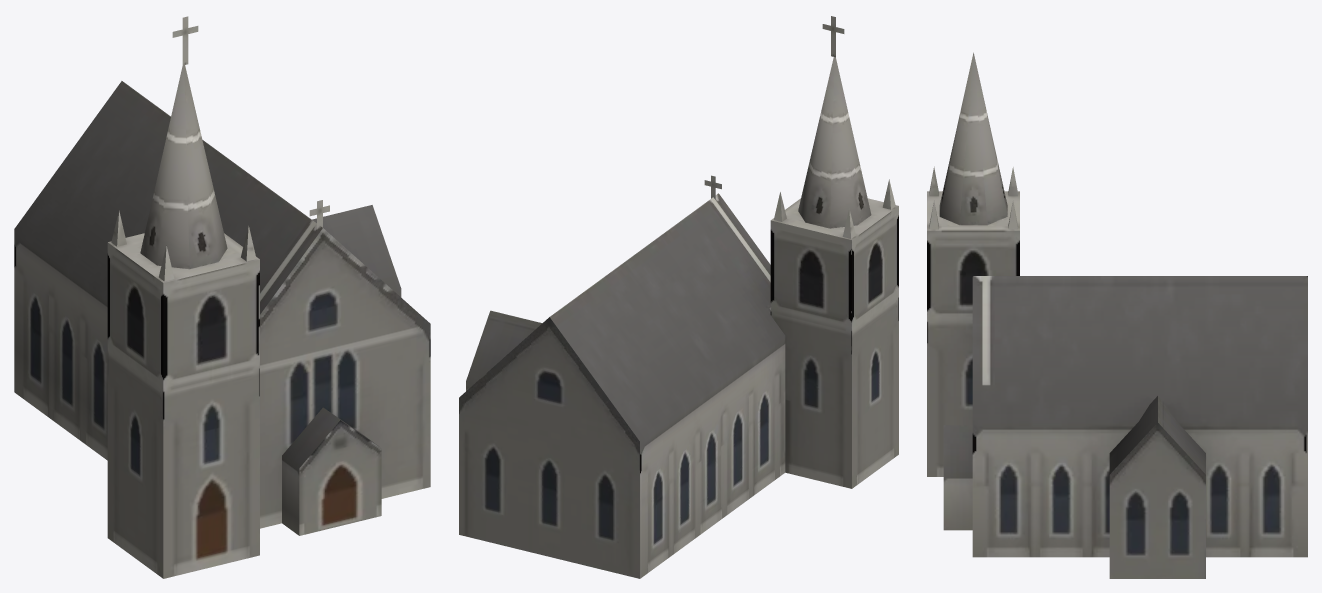
Rendered from wesley_church.glb.
3 views of the same model, side by side, from view 1: azimuth 30°, elevation 25°; view 2: azimuth 150°, elevation 25°; view 3: azimuth 270°, elevation 25° (orthographic). The views are drawn at different scales.
Parts seen in each view (by area): view 1: wesley_church_body; view 2: wesley_church_body; view 3: wesley_church_body.
Boxes of the visible parts, <box> form: wesley_church_body: <box>14,16,430,578</box>; wesley_church_body: <box>459,16,898,578</box>; wesley_church_body: <box>927,52,1307,578</box>.
Size of the model in its own units: 38.1 by 55.62 by 43.4.
Materials: 2 (1 with a texture image).
